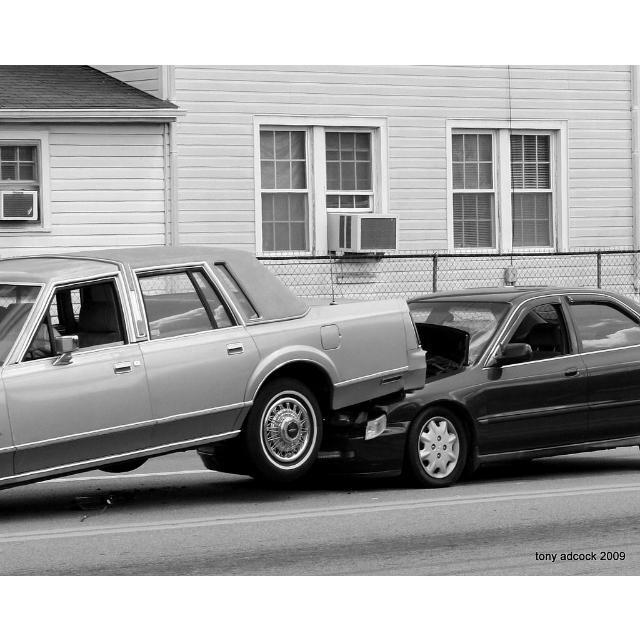fender-dent: (386, 392, 433, 439)
